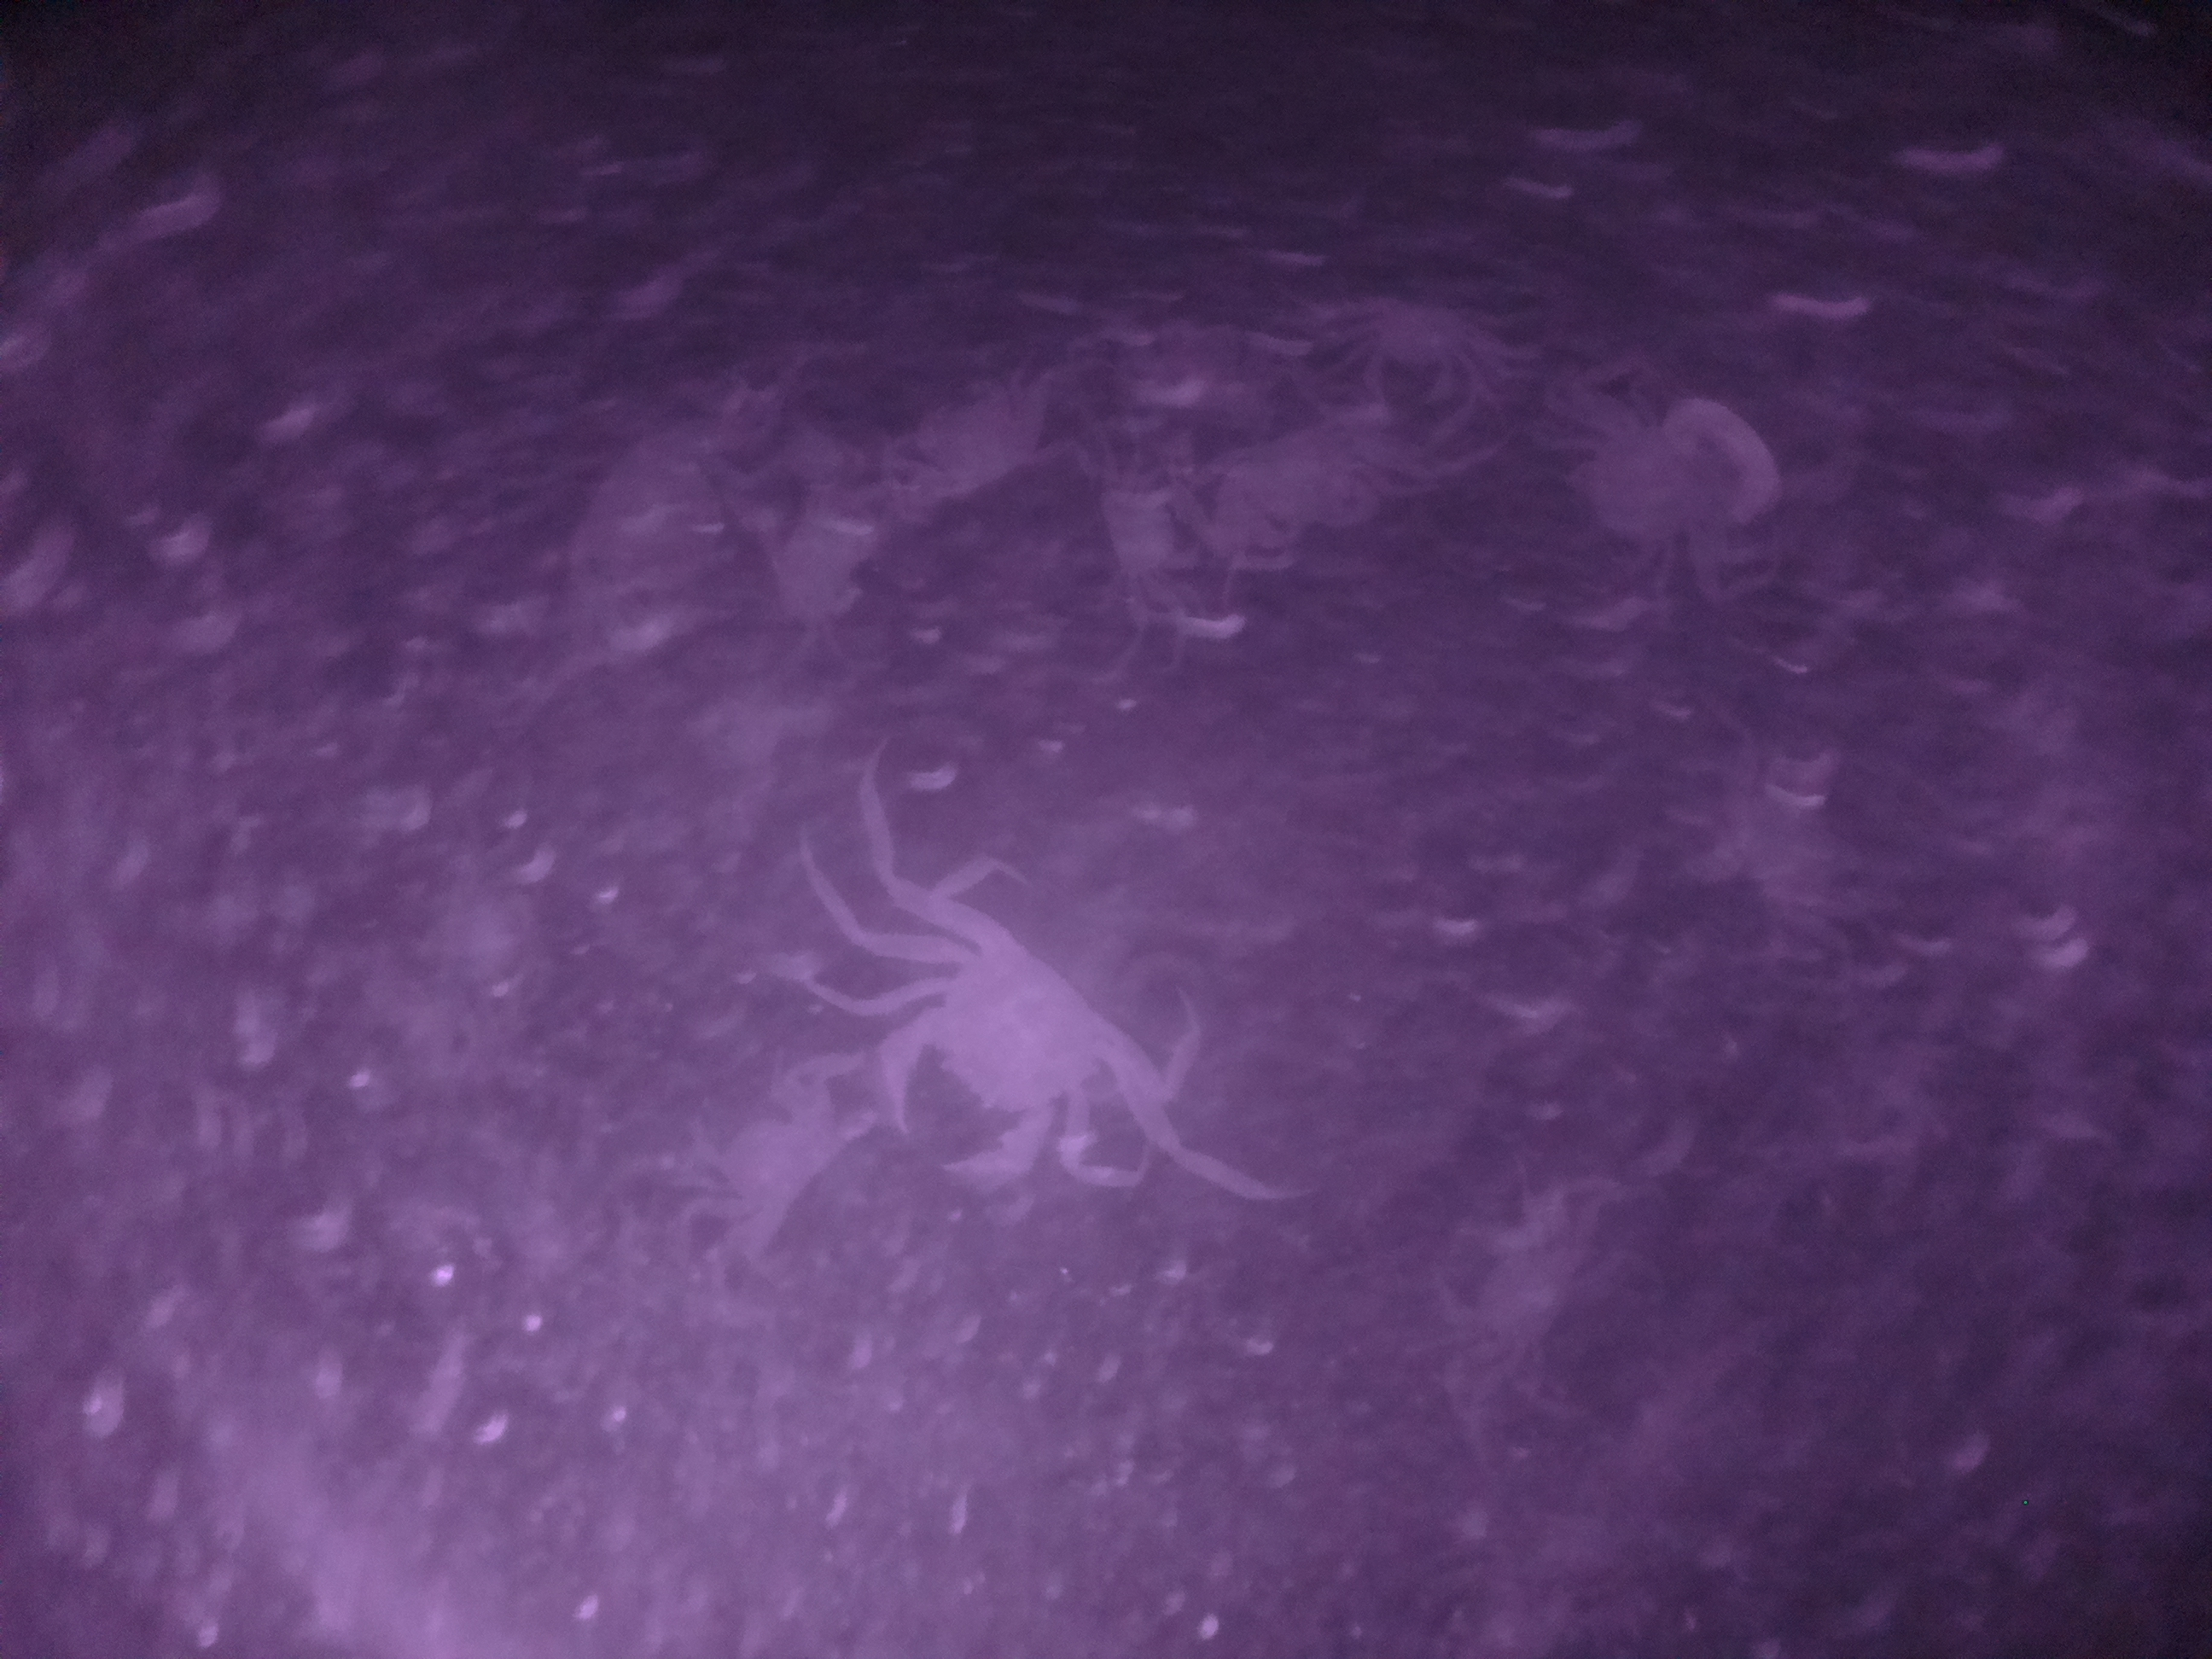Crab: (637, 1051, 876, 1274)
